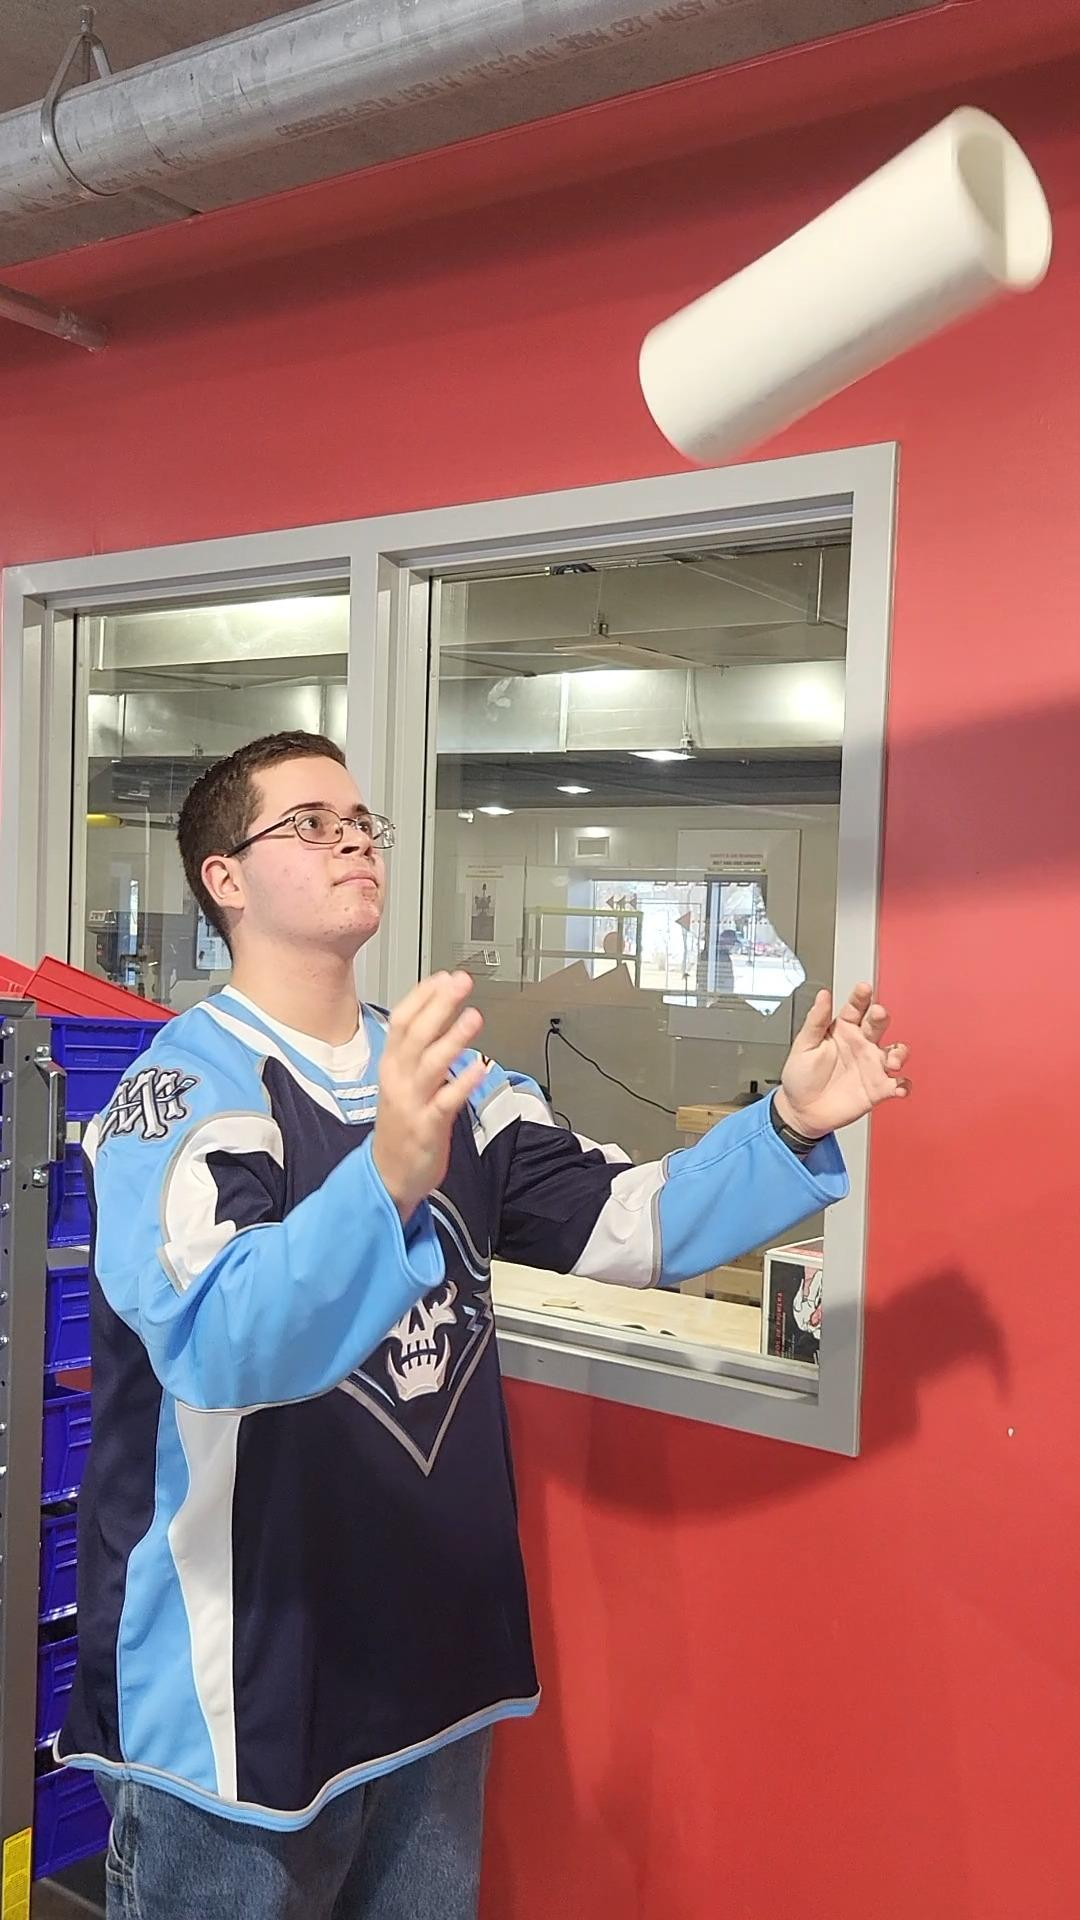coral: (633, 111, 1050, 473)
